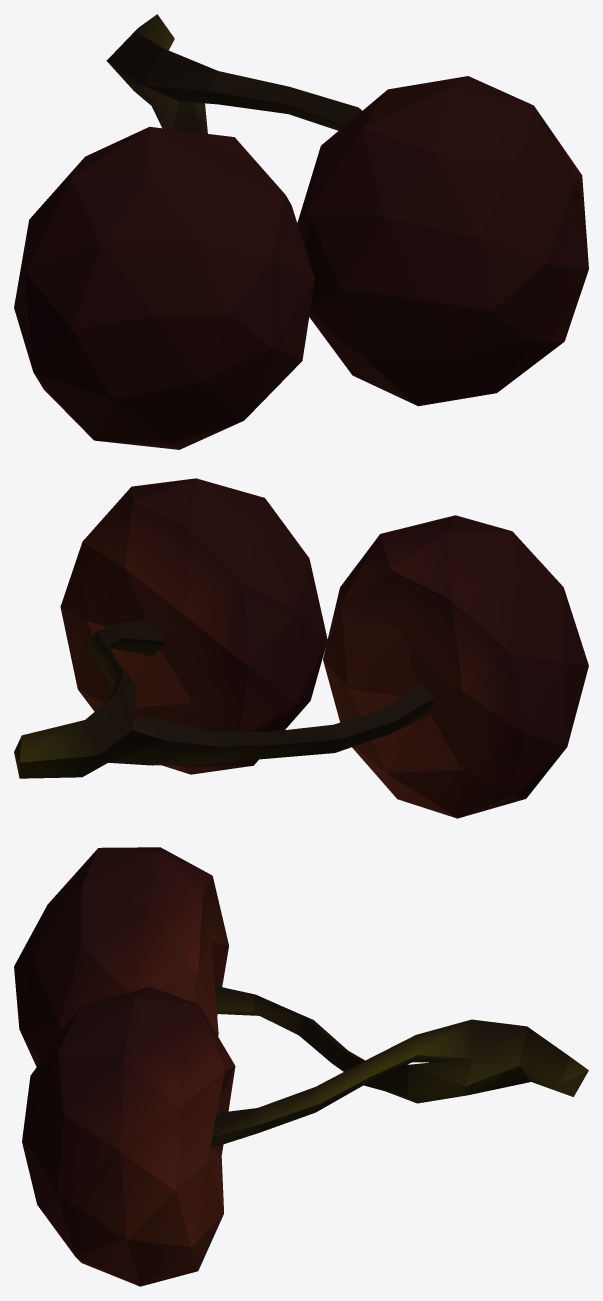
The model's file is Cherry.fbx.
3 views of the same model, one above another, from view 1: azimuth 30°, elevation 25°; view 2: azimuth 150°, elevation 25°; view 3: azimuth 270°, elevation 25° (orthographic). The views are drawn at different scales.
Parts seen in each view (by area): view 1: shot_20260405070043.006; view 2: shot_20260405070043.006; view 3: shot_20260405070043.006.
Boxes of the visible parts, x1,y1,x2,y2 form: shot_20260405070043.006: [14, 14, 588, 449]; shot_20260405070043.006: [14, 478, 588, 818]; shot_20260405070043.006: [14, 847, 588, 1286].
Size of the model in its own units: 139 by 82.61 by 143.
